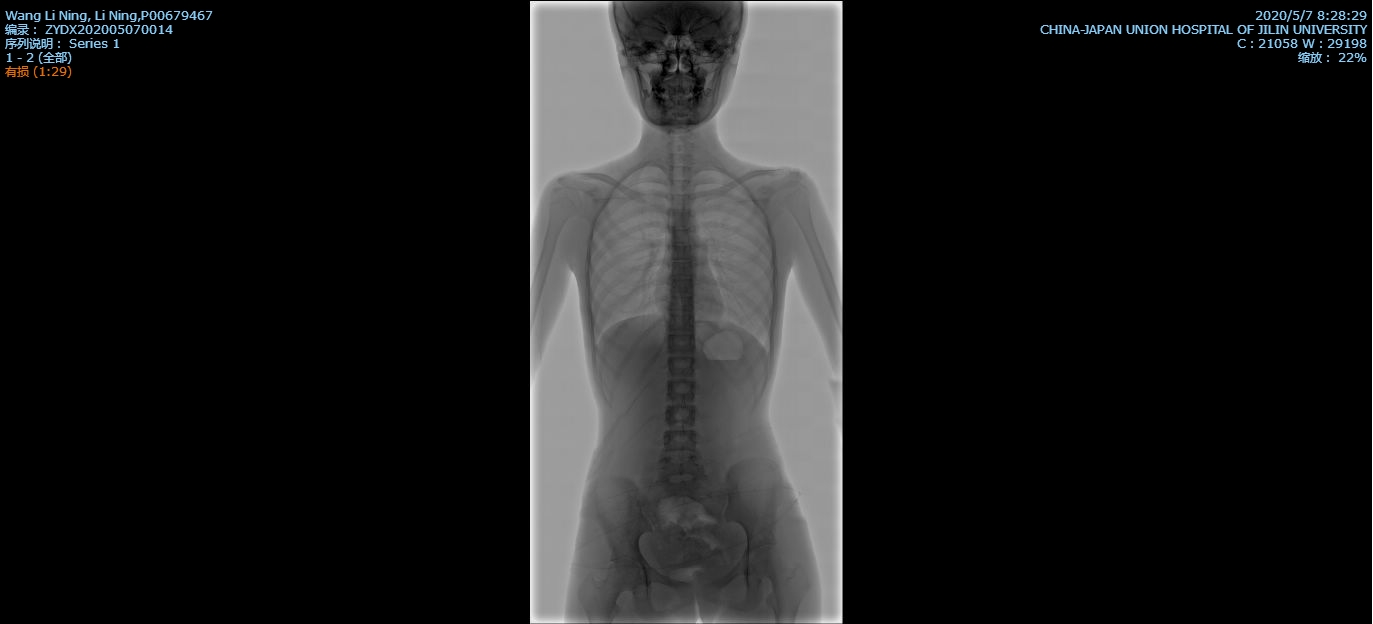Bone: (658, 455, 700, 475), (664, 431, 697, 449), (665, 405, 696, 423), (665, 379, 696, 397), (667, 333, 695, 350), (666, 357, 694, 373), (668, 295, 695, 311), (669, 313, 694, 329), (672, 261, 693, 276), (670, 280, 692, 293), (672, 246, 693, 259), (673, 229, 691, 244), (672, 214, 690, 225)
